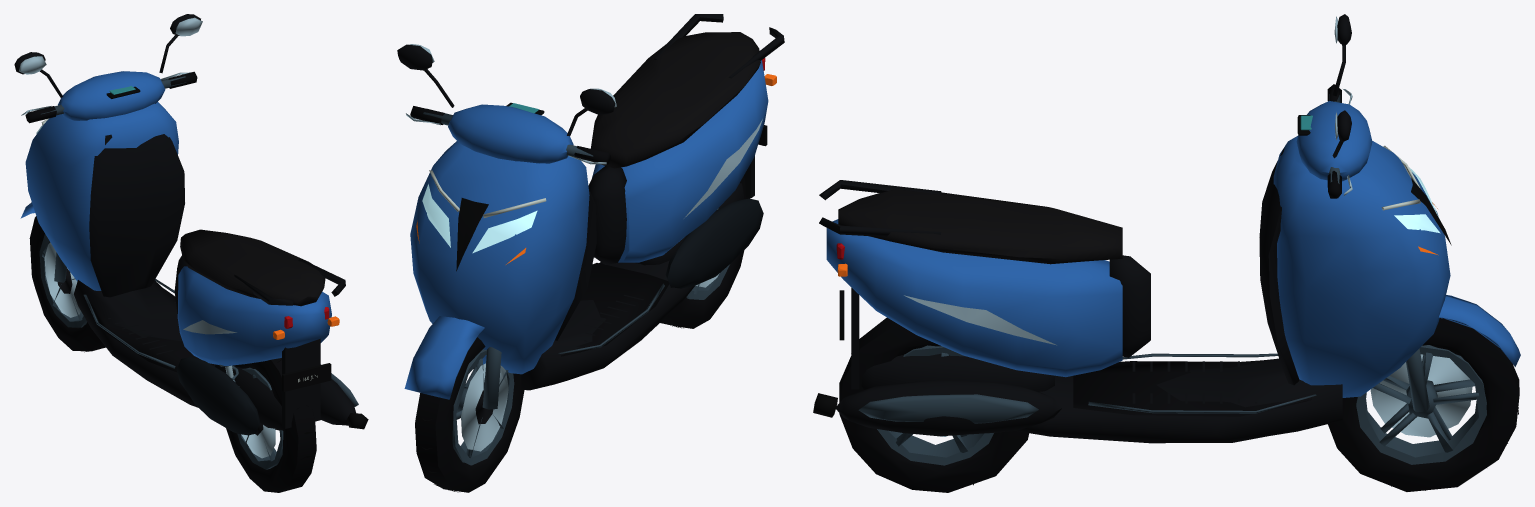
The model's file is sport_scooter_cobalt_lod1.glb.
The picture shows the model from 3 angles, left to right: view 1: azimuth 30°, elevation 25°; view 2: azimuth 150°, elevation 25°; view 3: azimuth 270°, elevation 25°; orthographic projection. The views are drawn at different scales.
Parts seen in each view (by area): view 1: Body_Mesh, Steering_Pivot_Mesh, Wheel_Rear_Mesh, Wheel_Front_Mesh; view 2: Body_Mesh, Steering_Pivot_Mesh, Wheel_Front_Mesh, Wheel_Rear_Mesh, Headlights_Mesh; view 3: Body_Mesh, Wheel_Front_Mesh, Wheel_Rear_Mesh, Steering_Pivot_Mesh, Headlights_Mesh.
Boxes of the visible parts, x1,y1,x2,y2 form: Body_Mesh: (25,102,368,435); Steering_Pivot_Mesh: (14,14,202,282); Wheel_Rear_Mesh: (226,358,316,492); Wheel_Front_Mesh: (29,216,105,352); Body_Mesh: (410,14,784,390); Steering_Pivot_Mesh: (397,44,616,409); Wheel_Front_Mesh: (415,337,524,492); Wheel_Rear_Mesh: (660,176,750,328); Headlights_Mesh: (422,170,546,253); Body_Mesh: (813,136,1451,443); Wheel_Front_Mesh: (1328,318,1519,491); Wheel_Rear_Mesh: (839,317,1028,492); Steering_Pivot_Mesh: (1296,14,1520,412); Headlights_Mesh: (1381,145,1440,233).
Bounding box in the file's own units: 0.7179 × 1.23 × 1.87.
2 materials, 1 textured.
